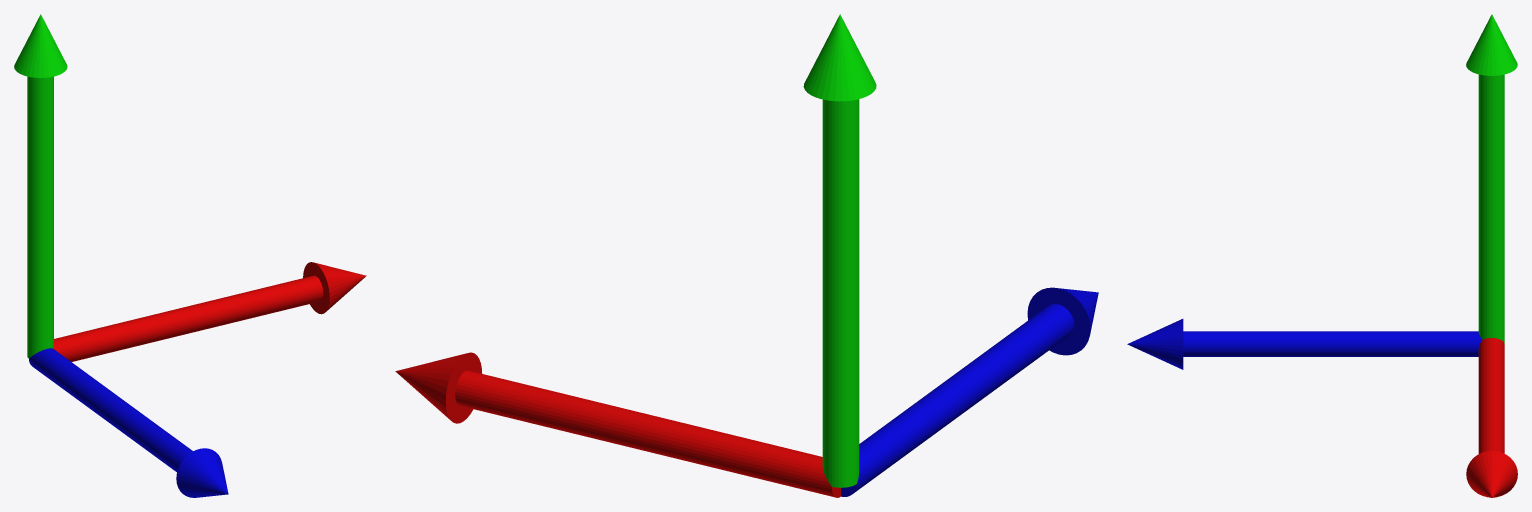
The model's file is axis.gltf.
3 views of the same model, side by side, from view 1: azimuth 30°, elevation 25°; view 2: azimuth 150°, elevation 25°; view 3: azimuth 270°, elevation 25° (orthographic). The views are drawn at different scales.
Parts seen in each view (by area): view 1: Y, X, Z; view 2: Y, X, Z; view 3: Z, Y, X.
Boxes of the visible parts, x1=… form: Y: x1=14, y1=14, x2=67, y2=358; X: x1=53, y1=262, x2=366, y2=361; Z: x1=29, y1=348, x2=228, y2=497; Y: x1=803, y1=14, x2=876, y2=487; X: x1=395, y1=352, x2=840, y2=497; Z: x1=841, y1=287, x2=1098, y2=496; Z: x1=1127, y1=319, x2=1482, y2=369; Y: x1=1466, y1=14, x2=1517, y2=343; X: x1=1466, y1=338, x2=1517, y2=497.
Bounding box in the file's own units: 7.56 × 7.56 × 7.56.
